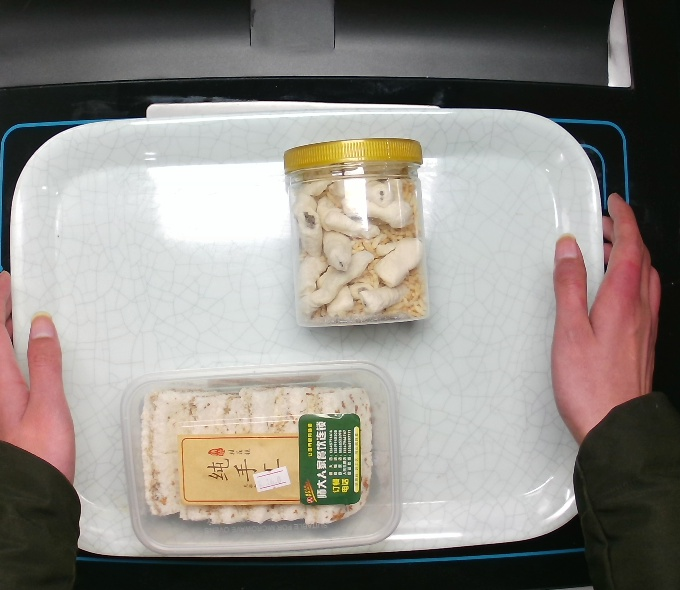wcq-GuiHuaGao: (115, 355, 410, 561)
wcq-MaiYaTang: (278, 133, 439, 331)
